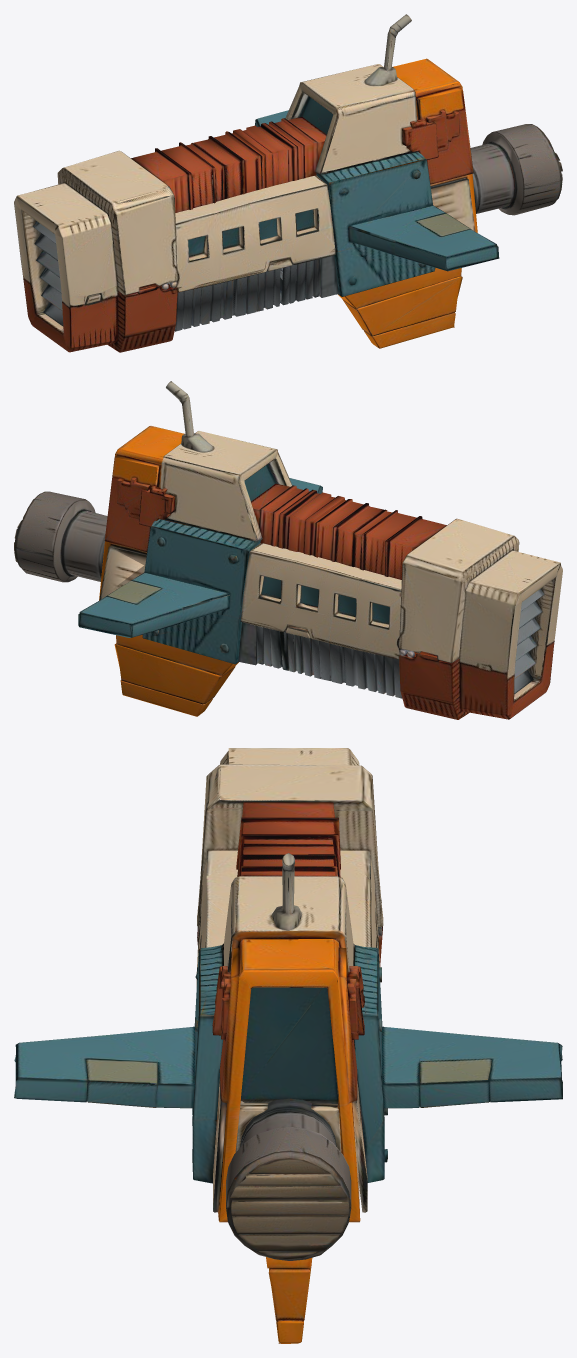
File: ship.glb
3 renders of one model, top to bottom at view 1: azimuth 30°, elevation 25°; view 2: azimuth 150°, elevation 25°; view 3: azimuth 270°, elevation 25°, orthographic. The views are drawn at different scales.
Visible parts, largest first — view 1: geometry_0; view 2: geometry_0; view 3: geometry_0.
Part boxes in pixels (x1,y1,x2,y2): geometry_0: (14, 14, 562, 352); geometry_0: (14, 381, 562, 719); geometry_0: (14, 748, 562, 1343).
Size of the model in its own units: 0.9565 by 0.5889 by 0.6294.
1 material, 1 textured.
